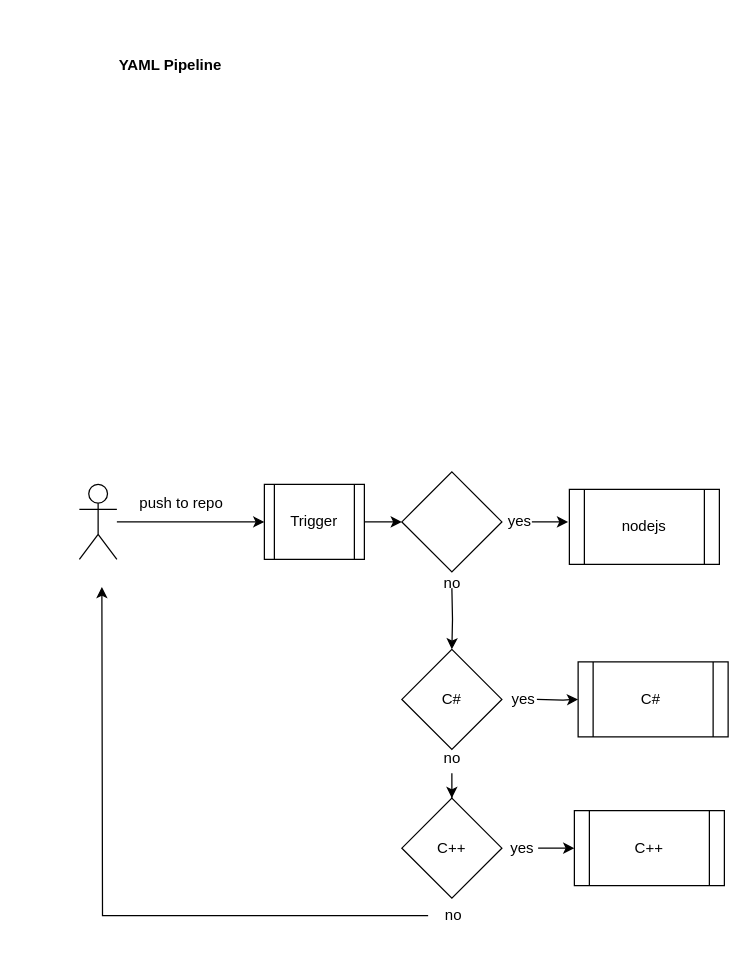
Some shapes in this 750 by 955 pixel diagram are drawn without their labels. The shapes that lost their labels are listed below. From the top down, each one's centre as x and y in pixels, then its label:
the point at 97,521: DevOps Team member
the point at 451,521: JS
